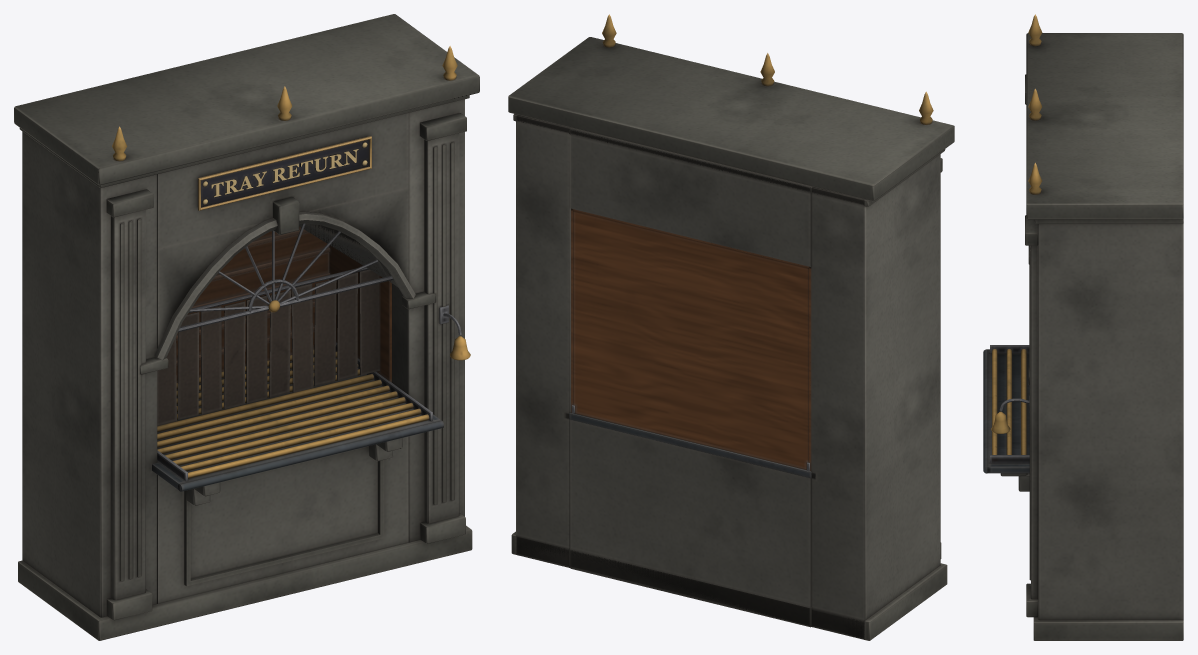
The model's file is TrayReturnHatch.fbx.
3 views of the same model, side by side, from view 1: azimuth 30°, elevation 25°; view 2: azimuth 150°, elevation 25°; view 3: azimuth 270°, elevation 25° (orthographic). The views are drawn at different scales.
Visible parts, largest first — view 1: TrayReturnHatch; view 2: TrayReturnHatch; view 3: TrayReturnHatch.
Part boxes in pixels (<box>): TrayReturnHatch: <box>14,14,479,640</box>; TrayReturnHatch: <box>508,14,954,640</box>; TrayReturnHatch: <box>983,14,1183,640</box>.
Bounding box in the file's own units: 670 × 855 × 331.
